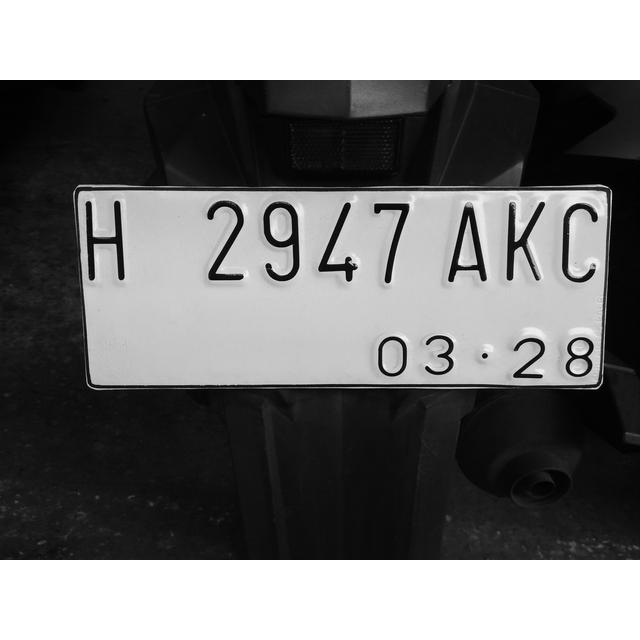license: (84, 192, 601, 386)
